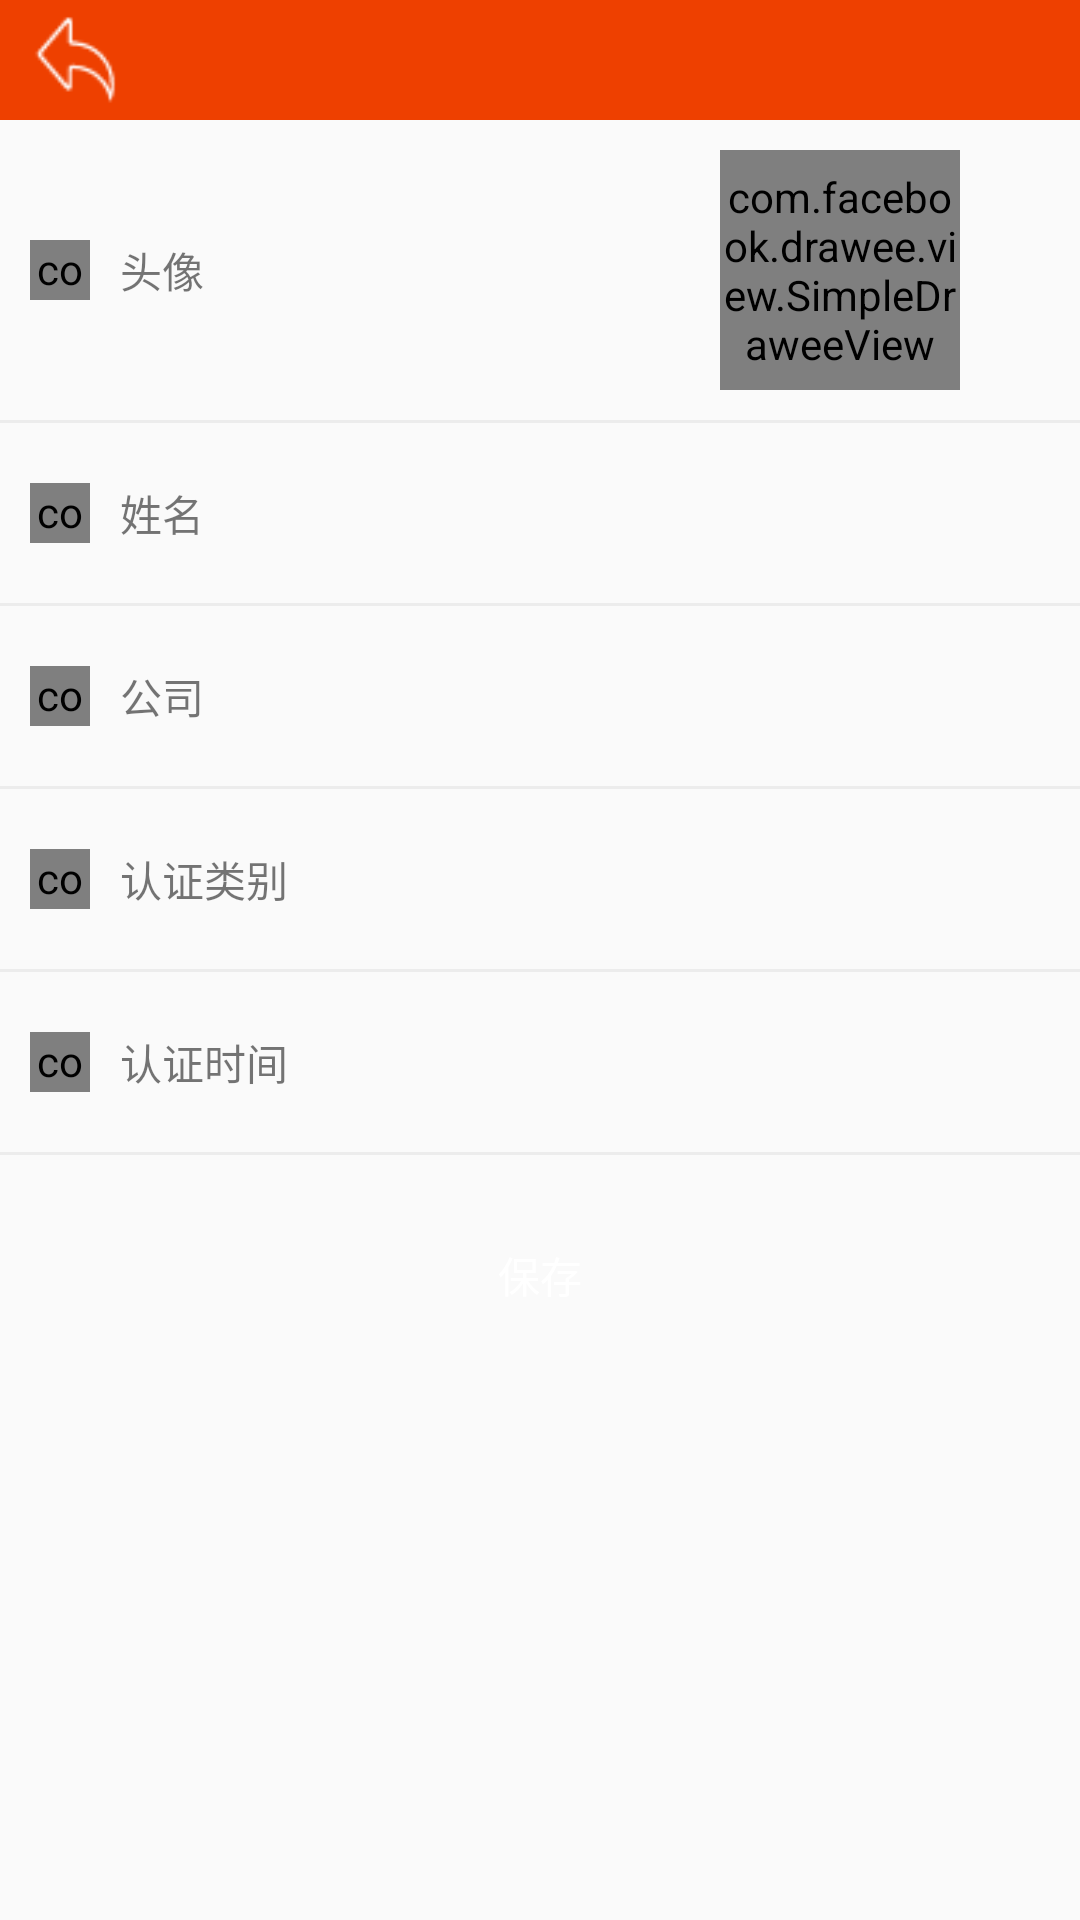

Named icons in this screenshot (1080px×1920px) and their centers, point (x, y):
back: point (75, 59)
